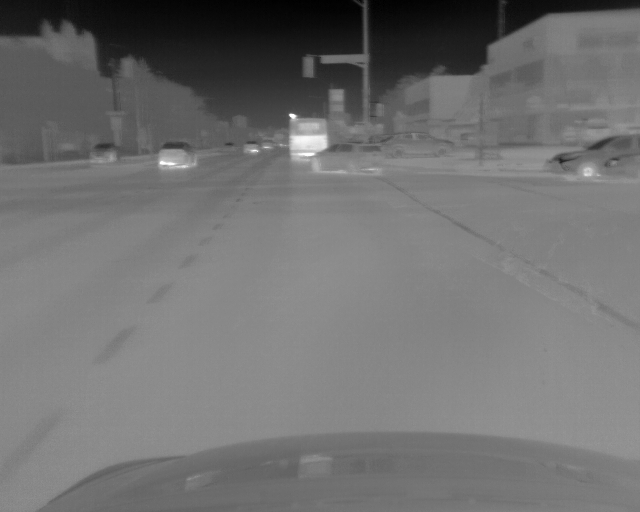car: (548, 133, 640, 181), (309, 142, 383, 177), (381, 132, 452, 159), (288, 118, 328, 163), (158, 141, 196, 170), (88, 143, 118, 163), (241, 141, 259, 154), (258, 138, 273, 150)
